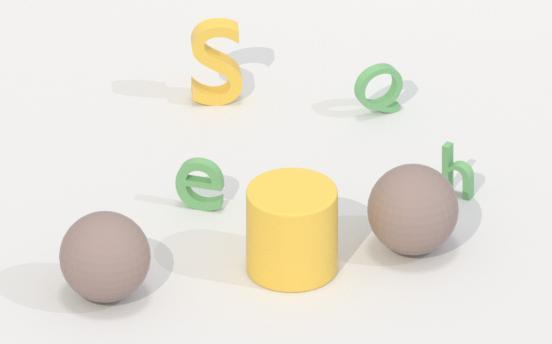chu_khoi: (191, 18, 242, 105), (175, 157, 224, 210), (354, 63, 402, 112), (441, 142, 474, 199)
hinh_cau: (59, 211, 150, 303), (367, 164, 458, 255)
tru: (246, 168, 338, 291)
